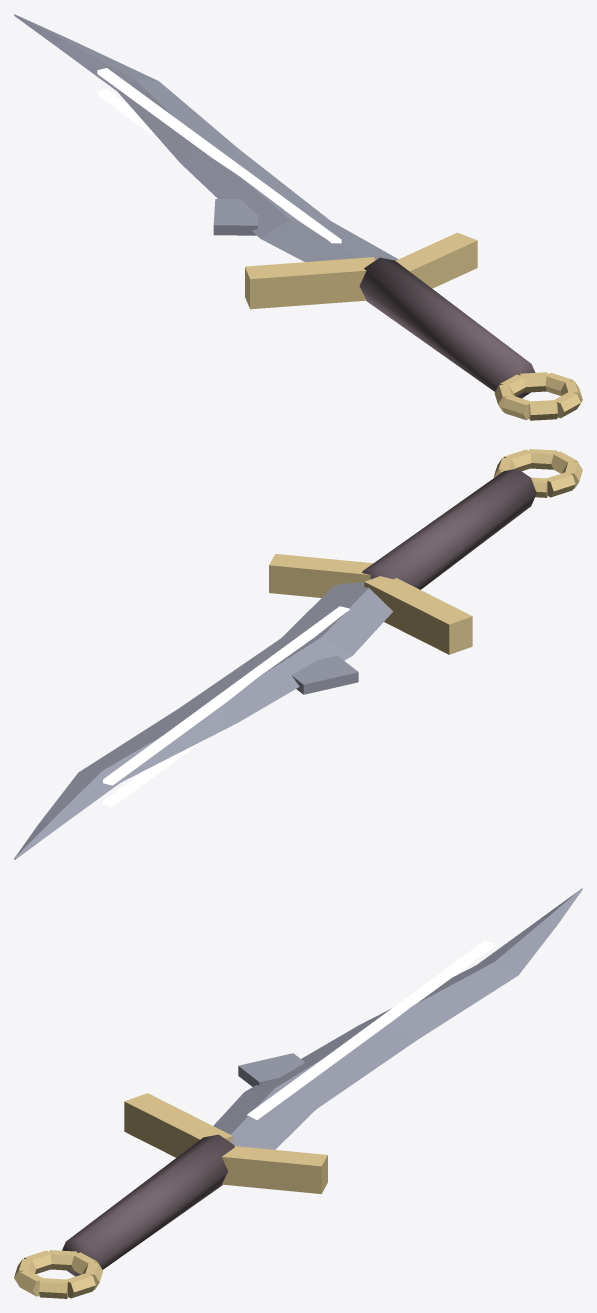
File: Assassin_DaggerL.fbx
3 renders of one model, top to bottom at view 1: azimuth 30°, elevation 25°; view 2: azimuth 150°, elevation 25°; view 3: azimuth 330°, elevation 25°, orthographic.
Visible parts, largest first — view 1: Assassin_DaggerL_Blade, Assassin_DaggerL_GuardPommel, Assassin_DaggerL_Grip, Assassin_DaggerL_RuneDetail; view 2: Assassin_DaggerL_Blade, Assassin_DaggerL_GuardPommel, Assassin_DaggerL_Grip, Assassin_DaggerL_RuneDetail; view 3: Assassin_DaggerL_Blade, Assassin_DaggerL_GuardPommel, Assassin_DaggerL_Grip, Assassin_DaggerL_RuneDetail.
Boxes of the visible parts, x1,y1,x2,y2 form: Assassin_DaggerL_Blade: (14, 14, 398, 261); Assassin_DaggerL_GuardPommel: (245, 232, 582, 420); Assassin_DaggerL_Grip: (359, 257, 535, 398); Assassin_DaggerL_RuneDetail: (97, 68, 341, 243); Assassin_DaggerL_Blade: (14, 582, 392, 859); Assassin_DaggerL_GuardPommel: (269, 449, 582, 654); Assassin_DaggerL_Grip: (362, 468, 536, 589); Assassin_DaggerL_RuneDetail: (103, 606, 349, 806); Assassin_DaggerL_Blade: (213, 888, 582, 1149); Assassin_DaggerL_GuardPommel: (14, 1093, 327, 1298); Assassin_DaggerL_Grip: (62, 1134, 234, 1276); Assassin_DaggerL_RuneDetail: (247, 941, 493, 1119).
Bounding box in the file's own units: 0.1769 × 0.036 × 0.7875.
